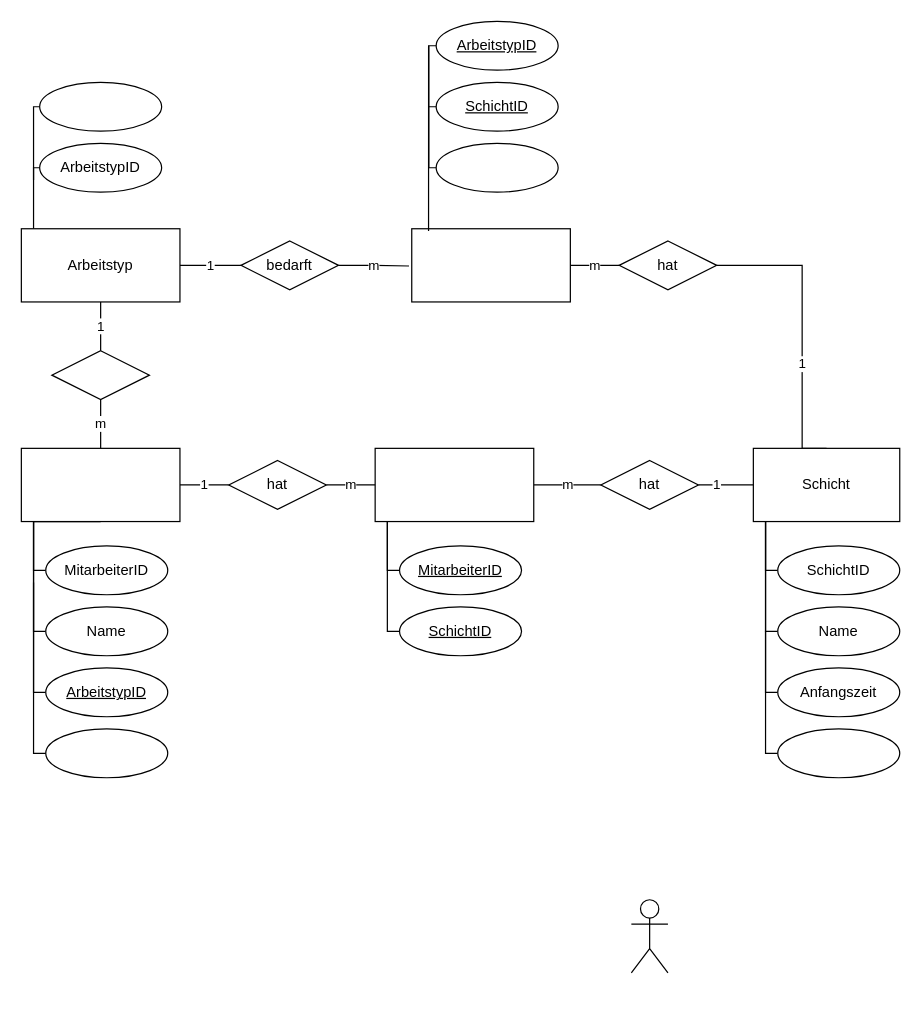
The diagram is 921 pixels wide and 1020 high, and some of its shapes have lost their labels. Each missing label, with the centre of its shape:
"Actor" belongs at pixel 649 936.
"Arbeitsstunden" belongs at pixel 106 753.
"Benötigte Arbeiter" belongs at pixel 496 167.
"Besetzung" belongs at pixel 454 484.
"Bezeichnung" belongs at pixel 100 106.
"Endzeit" belongs at pixel 838 753.
"führt aus" belongs at pixel 100 375.
"Mitarbeiter" belongs at pixel 100 484.
"Personalbedarf" belongs at pixel 490 265.
